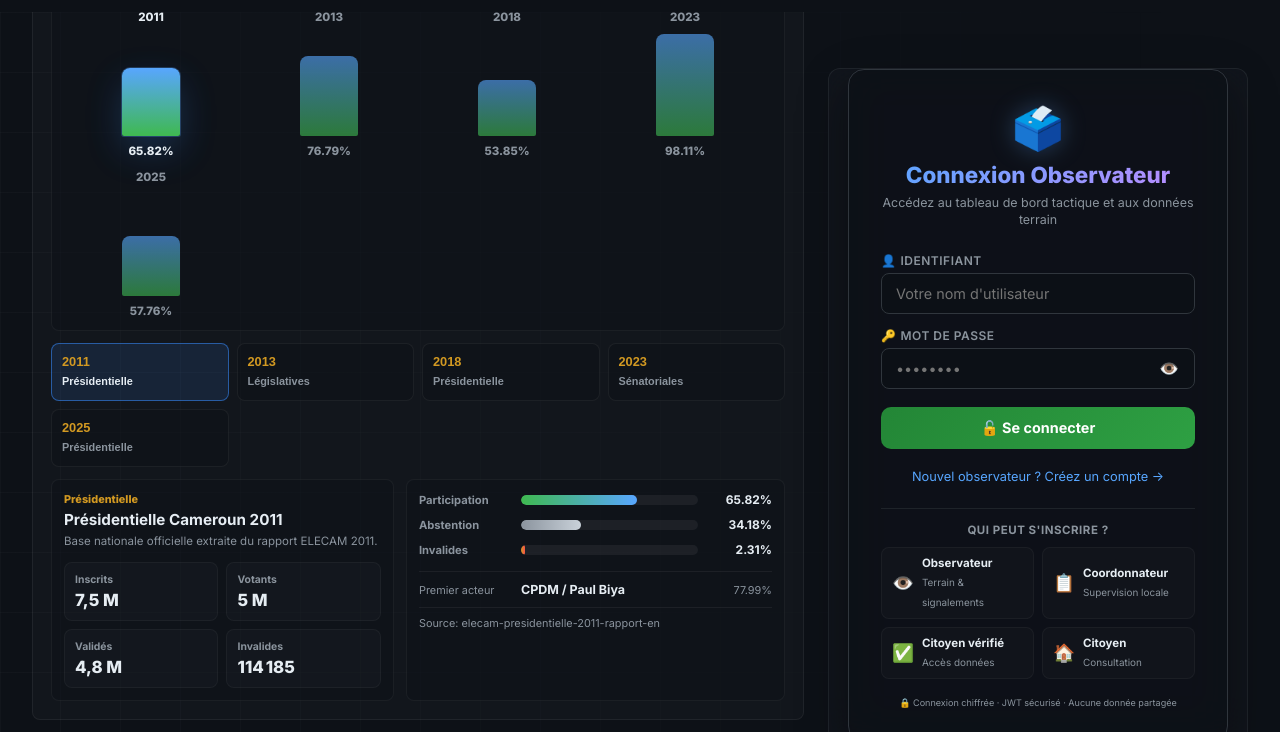
LoginScreen › permet de consulter les statistiques des scrutins passés
(page scrolled)
Click the tab "2018 Présidentielle" at (511, 372), box [422, 343, 600, 401]
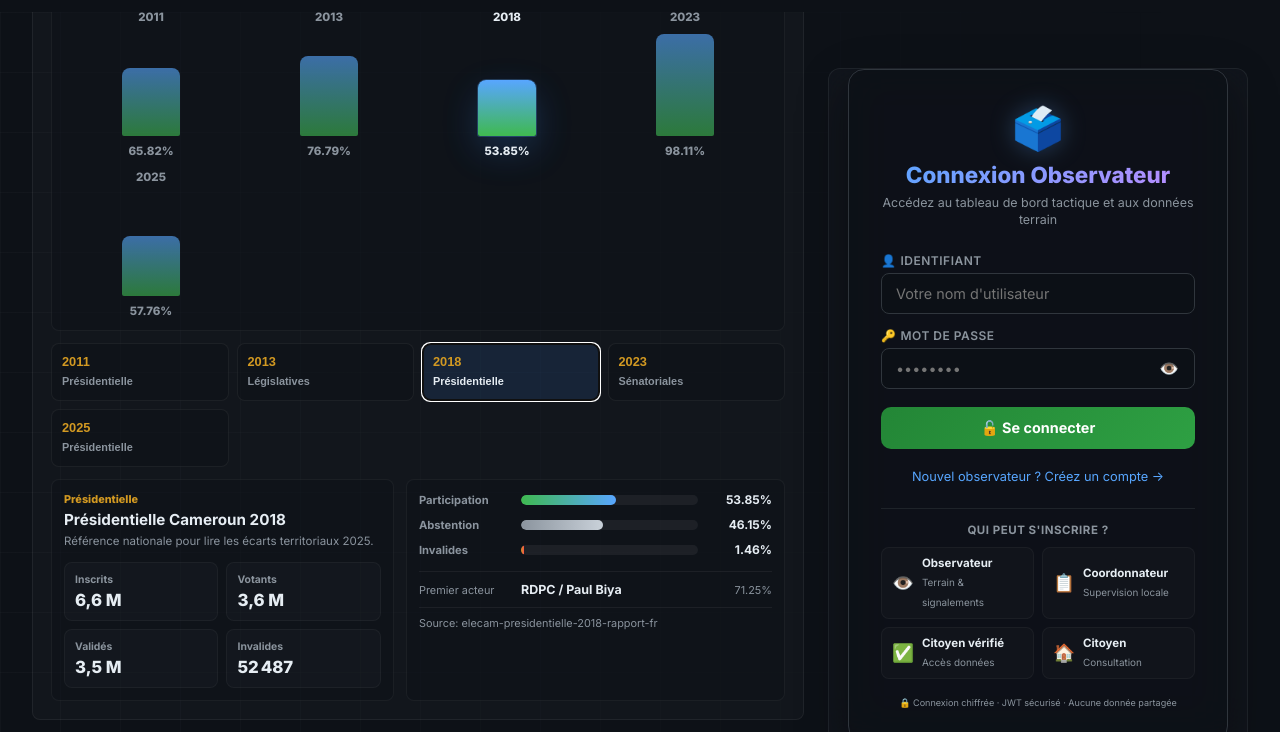
Check: the heading "Présidentielle Cameroun 2018" is shown, box [64, 510, 286, 529]
Check: the text "RDPC / Paul Biya" is shown, box [521, 582, 622, 597]
Check: the text "elecam-presidentielle-2018-rapport-fr" is shown, box [462, 616, 658, 630]
